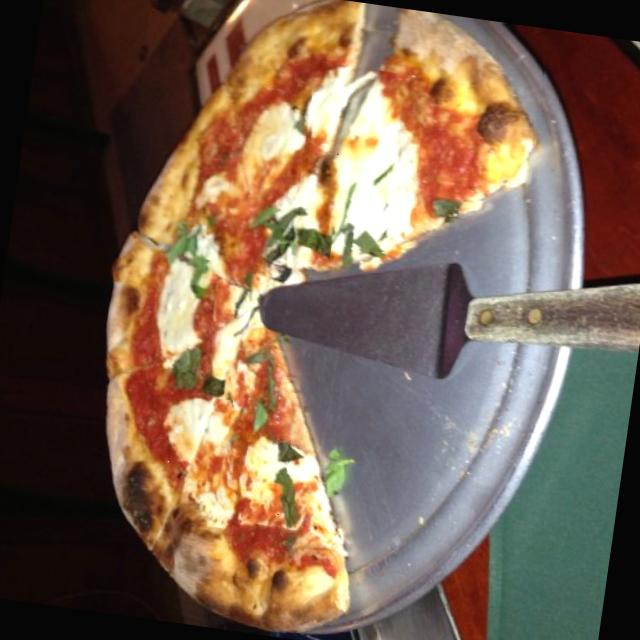basil: (257, 209, 334, 263), (158, 220, 206, 270)
cheese: (293, 62, 429, 255), (228, 85, 312, 202), (140, 252, 219, 368), (154, 391, 232, 482), (232, 434, 290, 520), (180, 468, 246, 532)
pizza: (107, 0, 535, 629)
